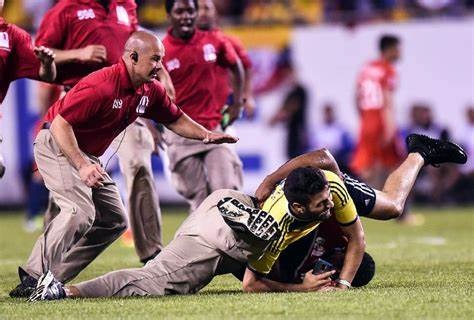falling: (36, 182, 293, 300)
